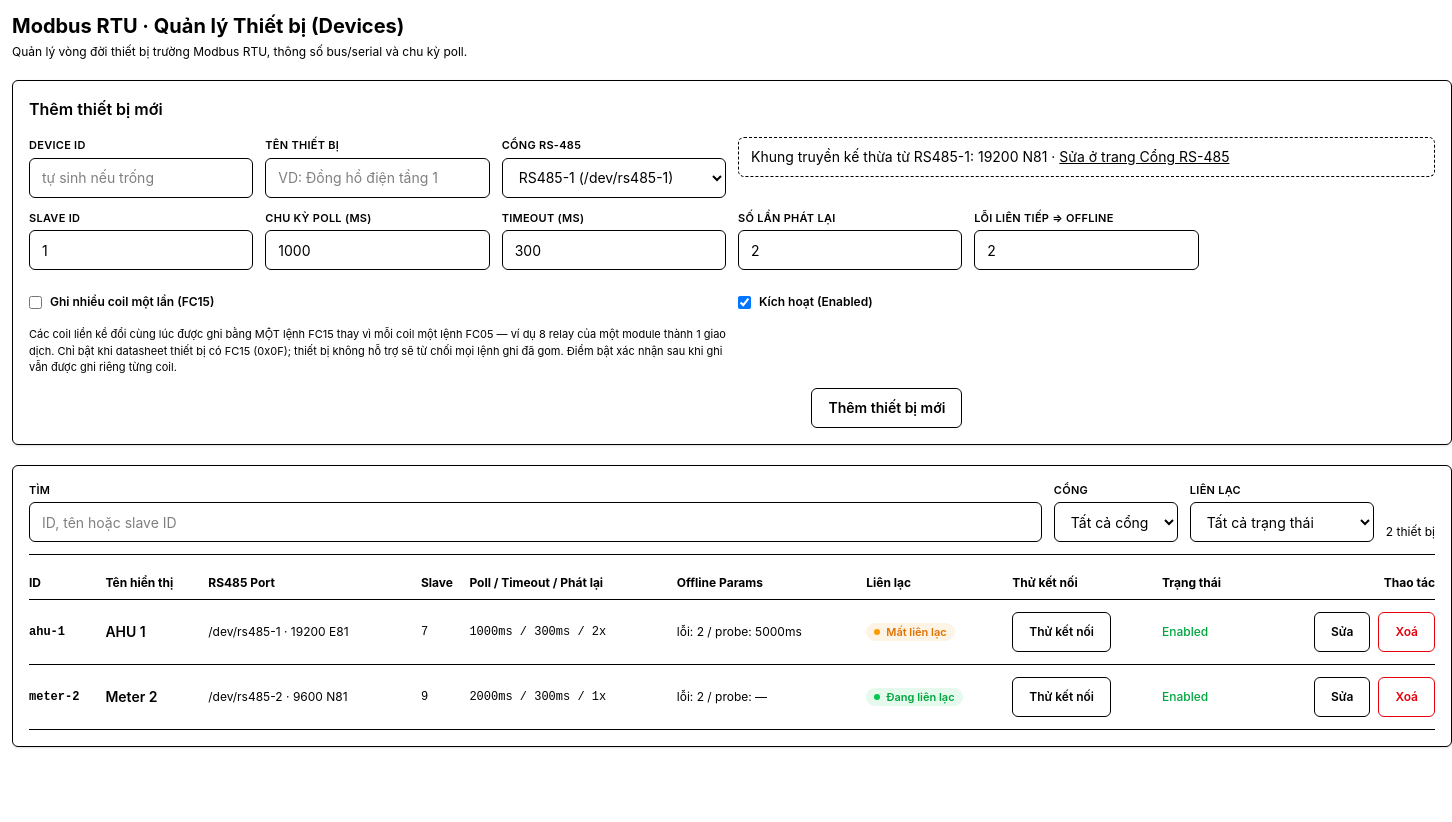
it: DevicesPage › hiện chi tiết trường sai khi lưu thất bại
The width and height of the screenshot is (1452, 822).
Expected: the text "ahu-1" is shown, [29,600,105,664]
Type "X" into the field labelled "Tên thiết bị". click: (377, 178)
box: [265,158,490,198]
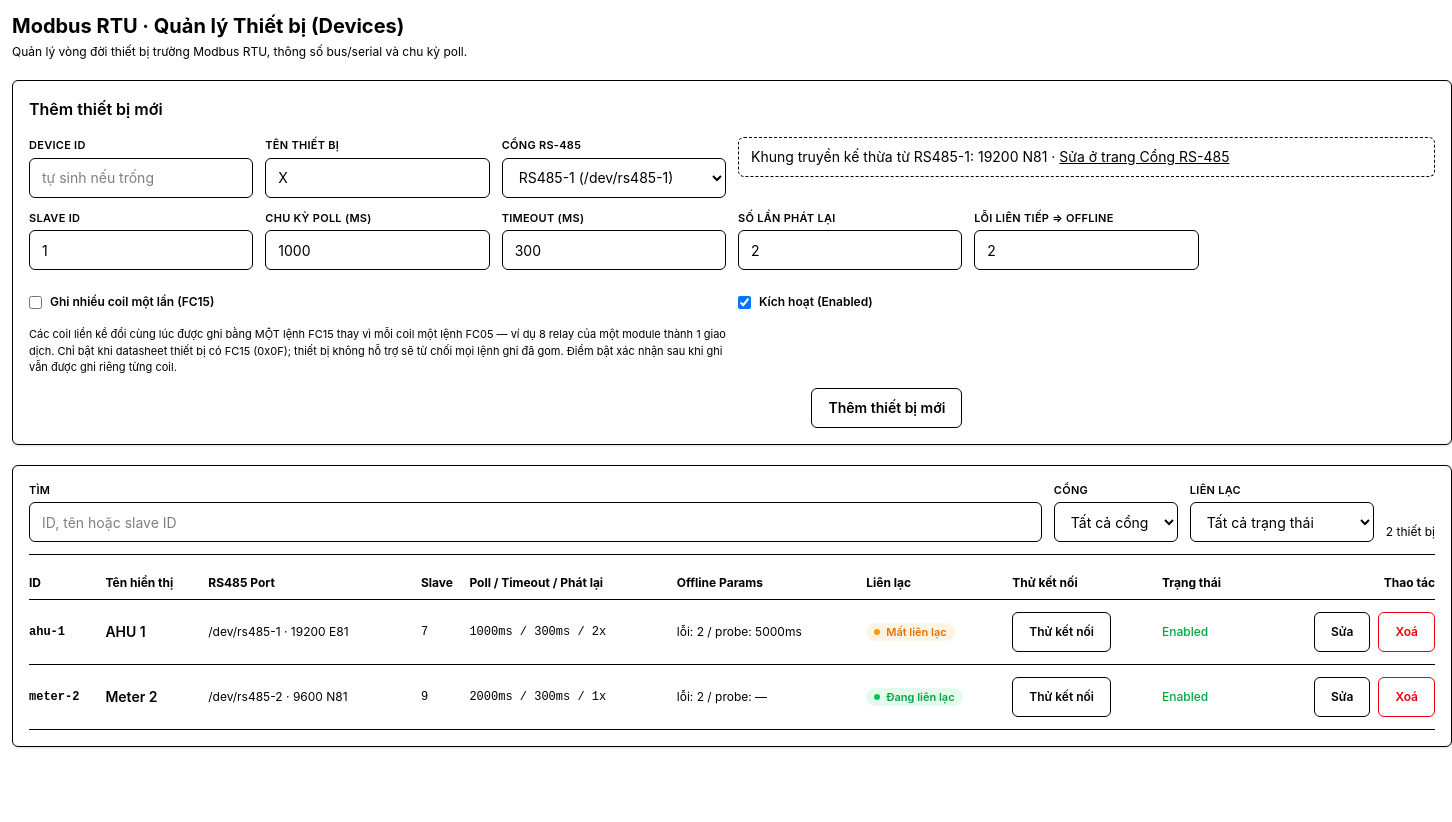
Click the button "Thêm thiết bị mới". click: (887, 408)
box: [812,388,962,428]
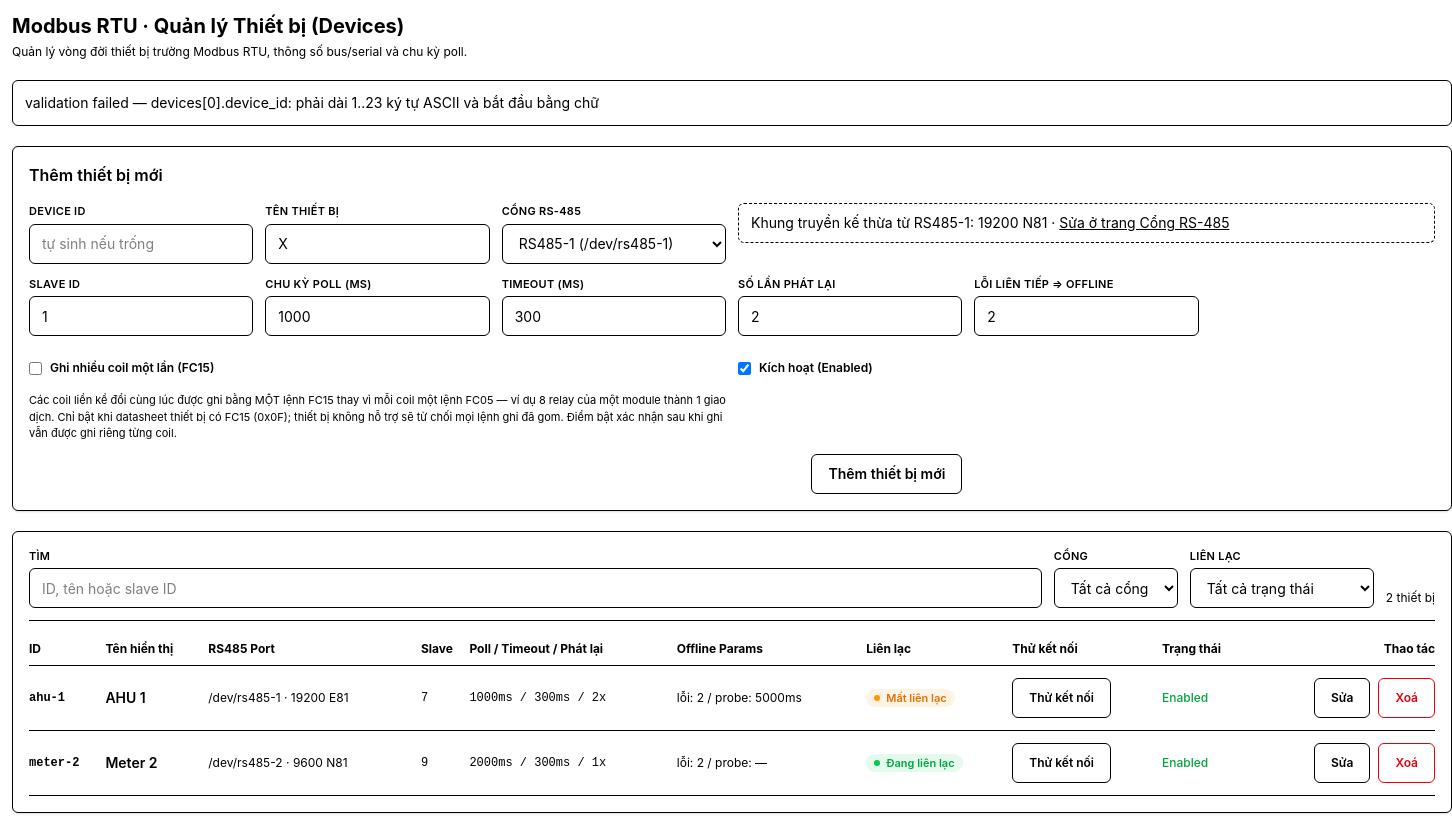
Result: the message shows "devices[0].device_id" at [25,94,599,111]
Result: the message shows "bắt đầu bằng chữ" at [25,94,599,111]
